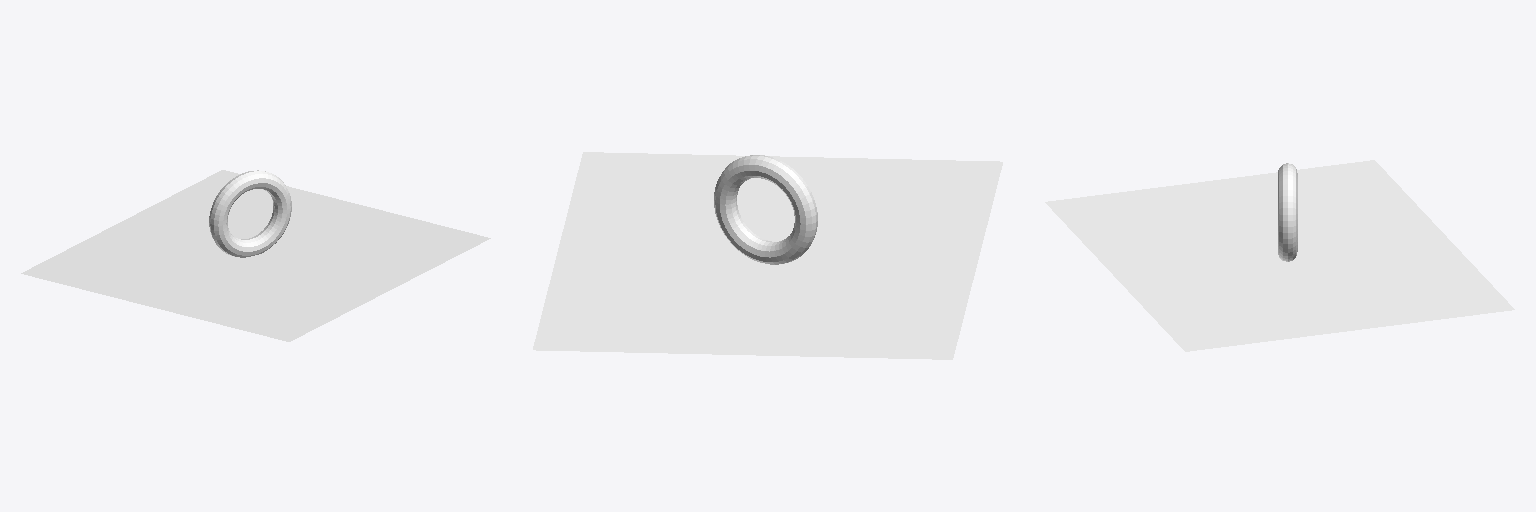
URDF robot description (cube.urdf):
<?xml version="1.0" ?>
<robot name="cube.urdf">
  <link name="baseLink">
    <contact>
      <lateral_friction value="1.0"/>
      <rolling_friction value="1.0"/>
      <inertia_scaling value="3.0"/>
      <contact_cfm value="0.0"/>
      <contact_erp value="1.0"/>
    </contact>
    <inertial>
      <origin rpy="0 0 0" xyz="0 0 0"/>
       <mass value=".1"/>
       <inertia ixx="1" ixy="0" ixz="0" iyy="1" iyz="0" izz="1"/>
    </inertial>
    <visual>
      <origin rpy="0 0 0" xyz="0 0 0"/>
      <geometry>
				<mesh filename="torus_only.obj" scale=".3 .3 .3"/>
      </geometry>
       <material name="white">
        <color rgba="1 1 1 1"/>
      </material>
    </visual>
    <visual>
      <origin rpy="0 0 0" xyz="0 0 0"/>
      <geometry>
				<mesh filename="plane_only.obj" scale=".3 .3 .3"/>
      </geometry>
       <material name="white">
        <color rgba="1 1 1 1"/>
      </material>
    </visual>
    <collision>
      <origin rpy="0 0 0" xyz="0 0 0"/>
      <geometry>
				<mesh filename="torus_only.obj" scale=".3 .3 .3"/>
      </geometry>
    </collision>
    <collision>
      <origin rpy="0 0 0" xyz="0 0 0"/>
      <geometry>
				<mesh filename="plane_only.obj" scale=".3 .3 .3"/>
      </geometry>
    </collision>
  </link>
</robot>


--- Render facts (derived) ---
3 views of the same robot in one strip: view 1: azimuth 30°, elevation 25°; view 2: azimuth 150°, elevation 25°; view 3: azimuth 270°, elevation 25° (orthographic).
Robot: cube.urdf — 1 links, 0 joints (none); root link baseLink; default pose: every joint at zero.
Links seen in each view (by area): view 1: baseLink; view 2: baseLink; view 3: baseLink.
Boxes of the visible links, left/top/right/bottom form: baseLink: left=21, top=170, right=490, bottom=341; baseLink: left=533, top=152, right=1002, bottom=359; baseLink: left=1045, top=160, right=1514, bottom=351.
Size in the robot's own frame: 3.57 by 3.56 by 0.8462 metres.
Meshes: 2 distinct files referenced, 2 mesh visuals loaded (2 OBJ).